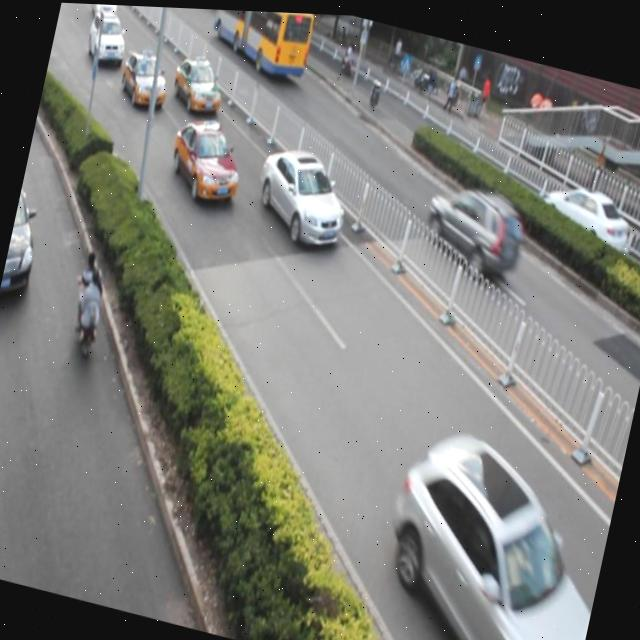car: (357, 409, 620, 640), (413, 168, 529, 284), (248, 134, 354, 248), (530, 168, 634, 265), (163, 109, 249, 208), (0, 170, 50, 309), (168, 47, 227, 115), (116, 45, 171, 109), (84, 7, 130, 66), (89, 3, 122, 23)
van: (202, 7, 318, 82)
